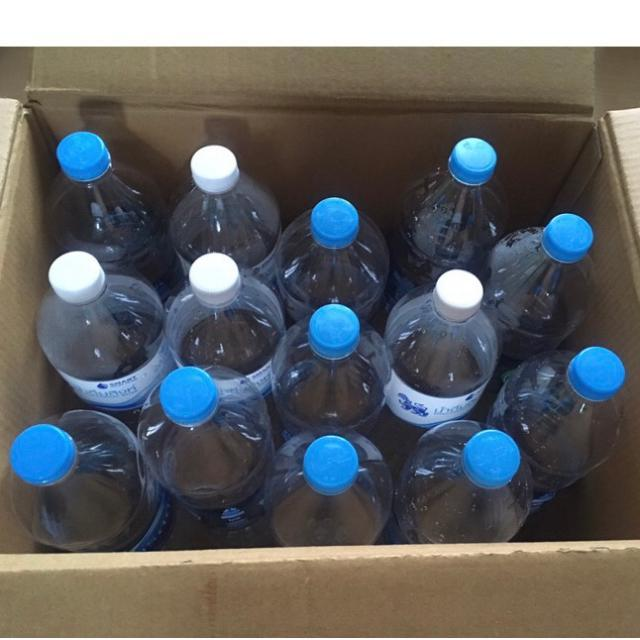PET Bottle: (8, 108, 640, 532)
